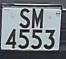3: (44, 28, 58, 51)
4: (4, 29, 19, 49)
5: (29, 28, 45, 51), (17, 28, 31, 51)
M: (31, 8, 46, 29)
S: (18, 6, 32, 31)
